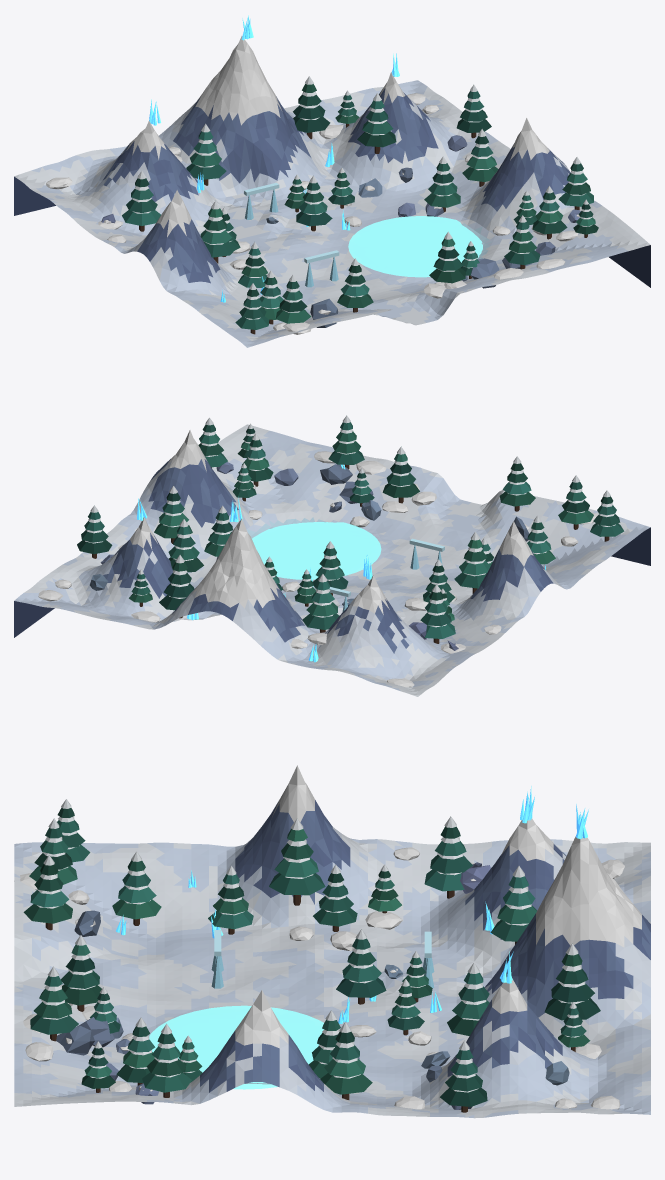
The model's file is loc_ice_mountains.glb.
3 renders of one model, top to bottom at view 1: azimuth 30°, elevation 25°; view 2: azimuth 150°, elevation 25°; view 3: azimuth 270°, elevation 25°, orthographic. The views are drawn at different scales.
Visible parts, largest first — view 1: Terrain, Props_Env, FrozenLake, Props_EnvGloss, Props_IceGlow; view 2: Terrain, Props_Env, FrozenLake, Props_IceGlow, Props_EnvGloss; view 3: Terrain, Props_Env, FrozenLake, Props_IceGlow, Props_EnvGloss.
Boxes of the visible parts, bbox=[...] form: Terrain: bbox=[14, 36, 650, 347]; Props_Env: bbox=[46, 76, 598, 334]; FrozenLake: bbox=[348, 216, 482, 277]; Props_EnvGloss: bbox=[244, 182, 339, 287]; Props_IceGlow: bbox=[149, 15, 399, 302]; Terrain: bbox=[14, 424, 650, 696]; Props_Env: bbox=[38, 415, 624, 687]; FrozenLake: bbox=[252, 522, 381, 579]; Props_IceGlow: bbox=[137, 464, 545, 662]; Props_EnvGloss: bbox=[316, 538, 444, 612]; Terrain: bbox=[14, 765, 650, 1118]; Props_Env: bbox=[20, 799, 624, 1112]; FrozenLake: bbox=[149, 1005, 323, 1089]; Props_IceGlow: bbox=[116, 786, 588, 1023]; Props_EnvGloss: bbox=[211, 930, 434, 988].
Bounding box in the file's own units: 36.28 × 14.49 × 36.03.
